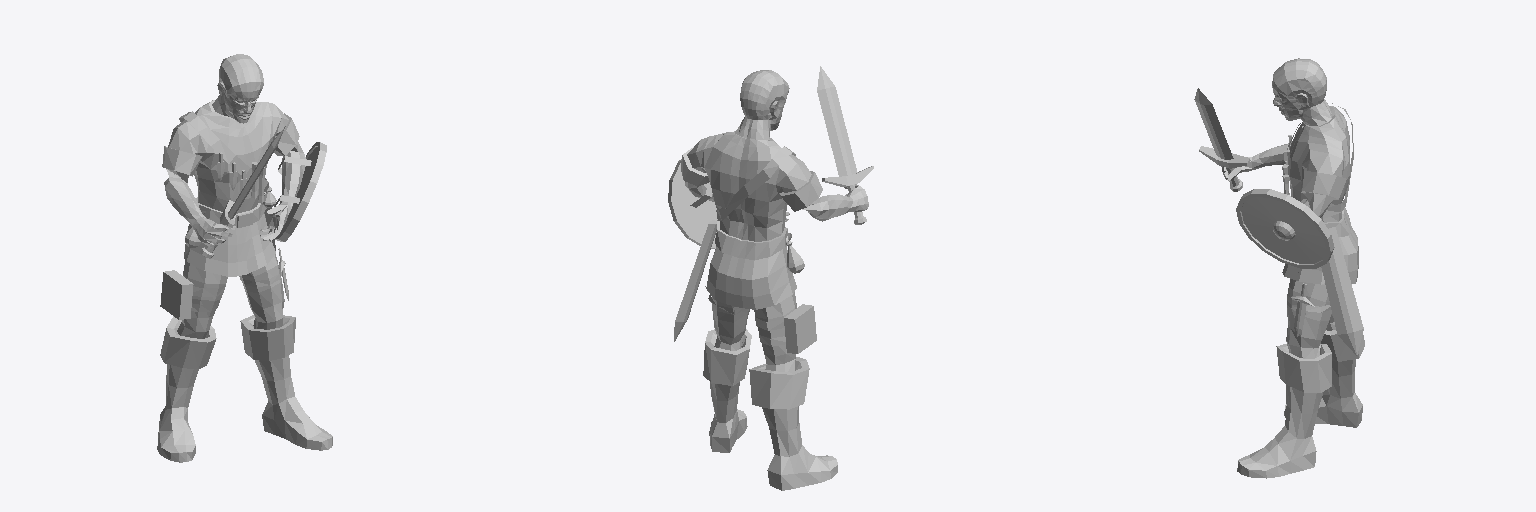
The model's file is char_anim_000152.obj.
3 views of the same model, side by side, from view 1: azimuth 30°, elevation 25°; view 2: azimuth 150°, elevation 25°; view 3: azimuth 270°, elevation 25° (orthographic).
Parts seen in each view (by area): view 1: Body.001, Shield, Funda.001_LegBag, Sword, Bandolera; view 2: Body.001, Sword, Shield, Funda.001_LegBag, Sheat, Bandolera; view 3: Body.001, Shield, Sheat, Sword, LegKnife.
Part boxes in pixels (x1,y1,x2,y2): Body.001: (157, 54, 332, 462); Shield: (274, 142, 326, 241); Funda.001_LegBag: (160, 270, 225, 319); Sword: (200, 126, 285, 258); Bandolera: (179, 111, 268, 191); Body.001: (681, 70, 868, 490); Sword: (817, 66, 873, 224); Shield: (668, 159, 717, 248); Funda.001_LegBag: (755, 304, 816, 353); Sheat: (674, 220, 716, 341); Bandolera: (716, 146, 795, 220); Body.001: (1222, 58, 1364, 478); Shield: (1236, 189, 1334, 268); Sheat: (1321, 227, 1363, 355); Sword: (1194, 88, 1250, 191); LegKnife: (1287, 283, 1330, 336).
Bounding box in the file's own units: 0.9756 × 2.25 × 0.9083.